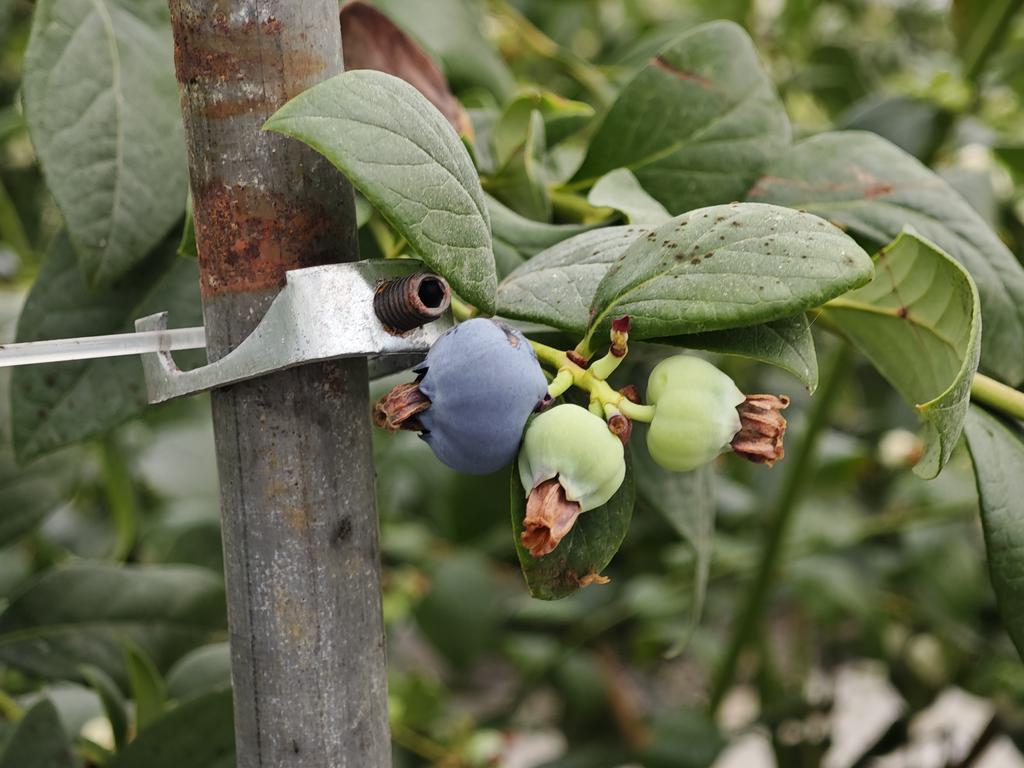RipeBlueBerry: (412, 315, 548, 478)
UnripeBlueBerry: (643, 351, 768, 475), (518, 402, 629, 521)
